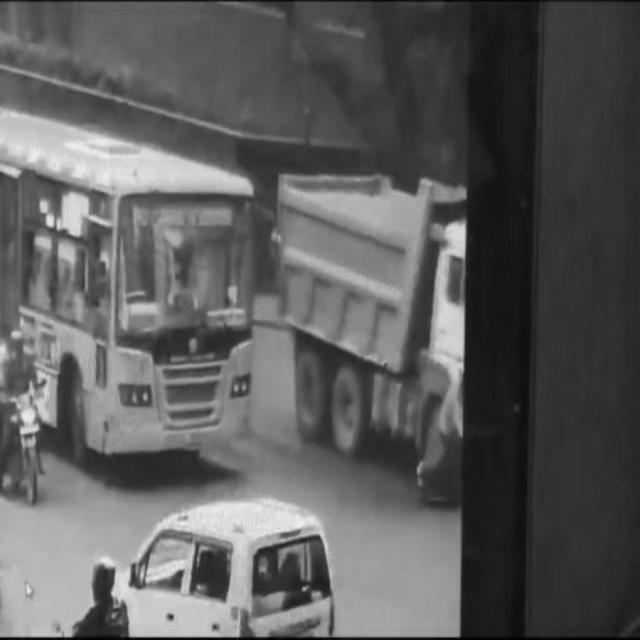vehicle: (1, 103, 252, 470), (276, 168, 472, 503), (113, 506, 337, 640), (2, 335, 50, 507)
